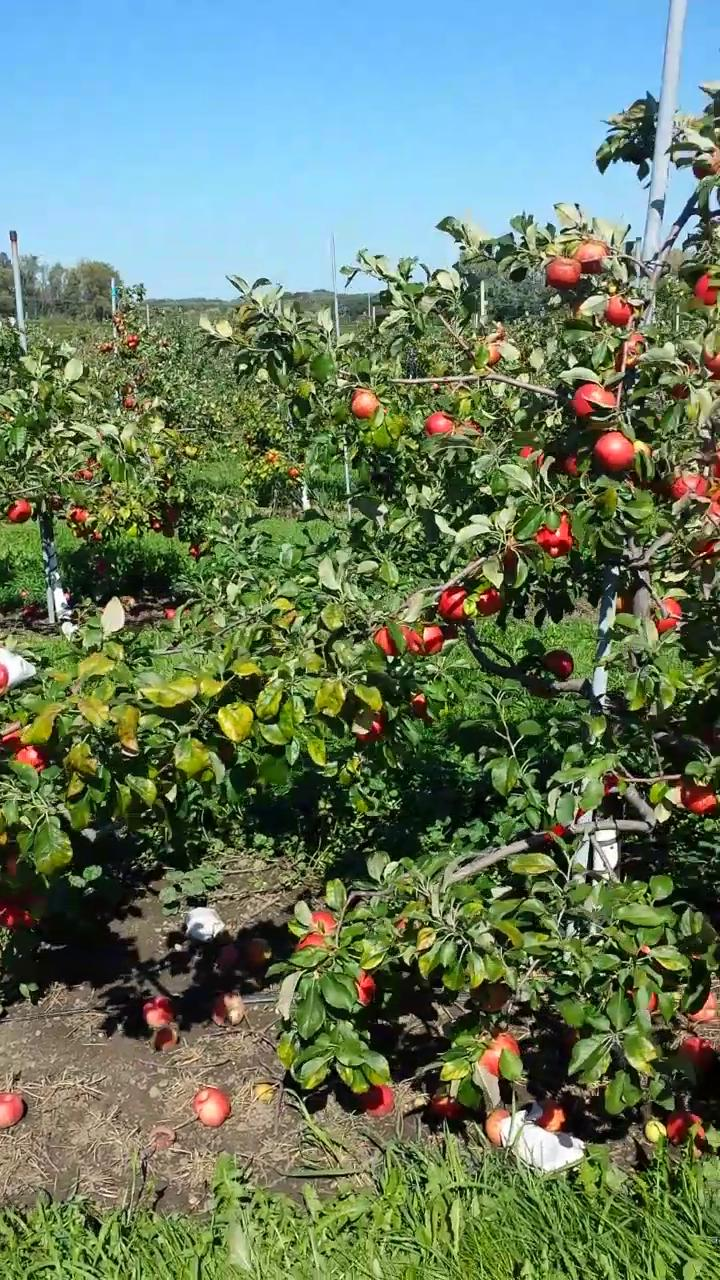Apple: (562, 375, 619, 423), (0, 880, 48, 929), (561, 234, 612, 280), (477, 1036, 522, 1080), (537, 251, 581, 293), (296, 909, 338, 952), (537, 513, 575, 560), (676, 775, 719, 816), (596, 427, 633, 473), (3, 740, 52, 774), (610, 332, 655, 366), (469, 975, 510, 1012), (359, 1080, 397, 1119), (600, 291, 642, 324), (674, 1033, 711, 1070), (373, 617, 404, 659), (659, 361, 694, 398), (437, 586, 473, 620), (669, 471, 711, 500), (599, 759, 628, 800), (354, 710, 387, 746), (682, 988, 717, 1021), (349, 388, 380, 425), (501, 539, 533, 574), (407, 625, 444, 655), (419, 409, 454, 440), (475, 579, 503, 616), (624, 986, 659, 1015), (354, 967, 379, 1007), (692, 144, 719, 181), (690, 268, 718, 303), (651, 598, 678, 631), (541, 650, 570, 678), (410, 689, 433, 724), (627, 440, 652, 471), (605, 584, 628, 613), (699, 348, 719, 380), (691, 536, 719, 558), (0, 726, 23, 752), (705, 490, 719, 529), (563, 447, 579, 479), (519, 443, 542, 465), (452, 420, 483, 436), (439, 617, 457, 644), (705, 449, 719, 481), (483, 342, 501, 366), (0, 662, 9, 696), (7, 848, 17, 876), (393, 915, 407, 929), (638, 943, 650, 953)
